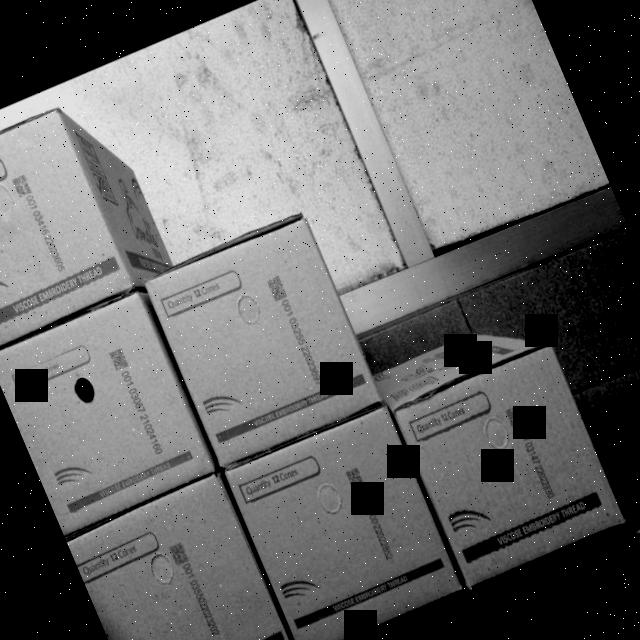box: (140, 213, 381, 472), (398, 344, 632, 588), (230, 404, 466, 640), (0, 290, 217, 531), (69, 477, 302, 640), (0, 100, 132, 348)
